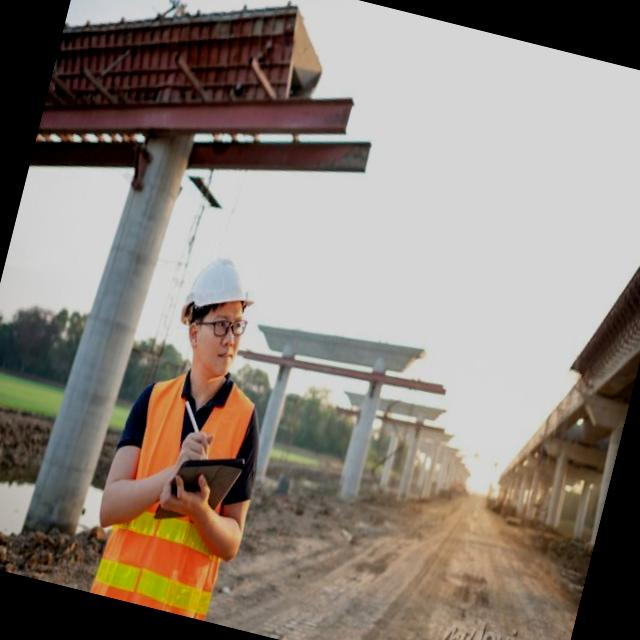goggles: (180, 296, 254, 352)
helmet: (175, 242, 263, 323)
vest: (92, 360, 260, 619)
